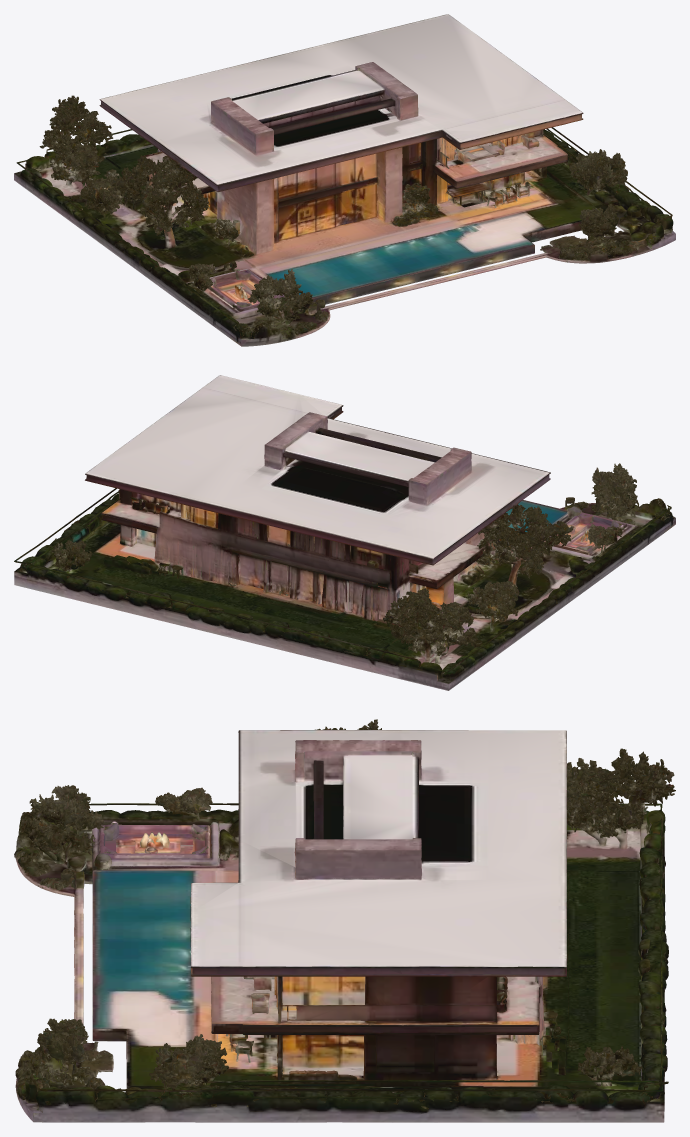
File: figura-07.glb
3 views of the same model, one above another, from view 1: azimuth 30°, elevation 25°; view 2: azimuth 150°, elevation 25°; view 3: azimuth 270°, elevation 25° (orthographic). The views are drawn at different scales.
Visible parts, largest first — view 1: mesh_node; view 2: mesh_node; view 3: mesh_node.
Boxes of the visible parts, left/top/right/bottom form: mesh_node: left=14, top=14, right=675, bottom=346; mesh_node: left=14, top=375, right=675, bottom=690; mesh_node: left=14, top=719, right=675, bottom=1122.
Size of the model in its own units: 1.9 by 0.4812 by 1.78.
1 material, 1 textured.
